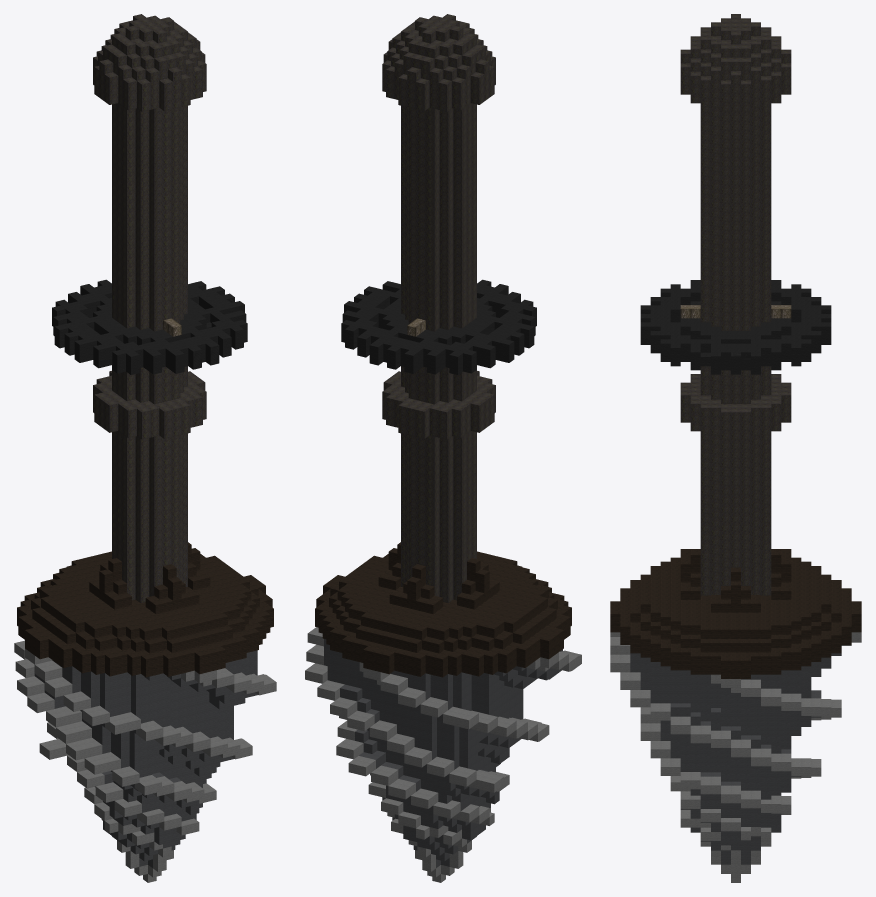
File: drillhead.fbx
3 renders of one model, left to right at view 1: azimuth 30°, elevation 25°; view 2: azimuth 150°, elevation 25°; view 3: azimuth 270°, elevation 25°, orthographic.
Parts seen in each view (by area): view 1: drillhead; view 2: drillhead; view 3: drillhead.
Part boxes in pixels (x1,y1,x2,y2): drillhead: [14, 14, 276, 882]; drillhead: [305, 14, 581, 882]; drillhead: [610, 14, 861, 882].
Bounding box in the file's own units: 2600 × 9400 × 2500.
7 materials, 7 textured.
